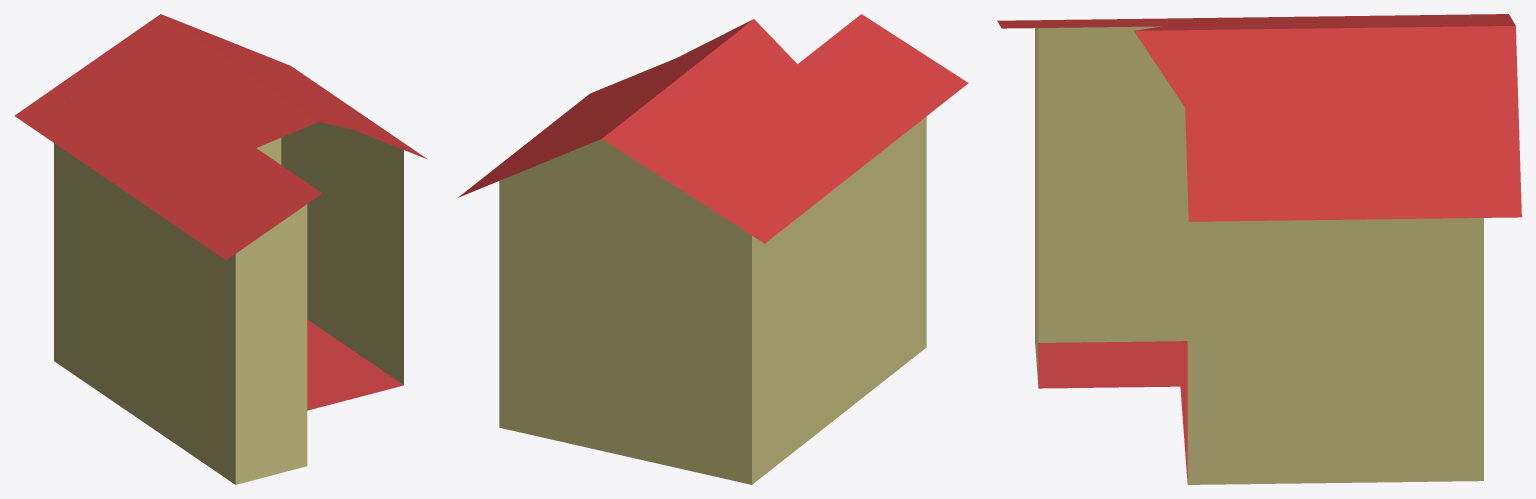
The picture shows the model from 3 angles, left to right: view 1: azimuth 30°, elevation 25°; view 2: azimuth 150°, elevation 25°; view 3: azimuth 270°, elevation 25°; orthographic projection. The views are drawn at different scales.
Size of the model in its own units: 8.62 by 10.67 by 8.7.
